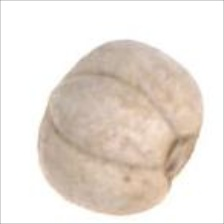L5: (44, 70, 177, 173), (162, 130, 201, 187)
L6: (36, 38, 206, 217)
